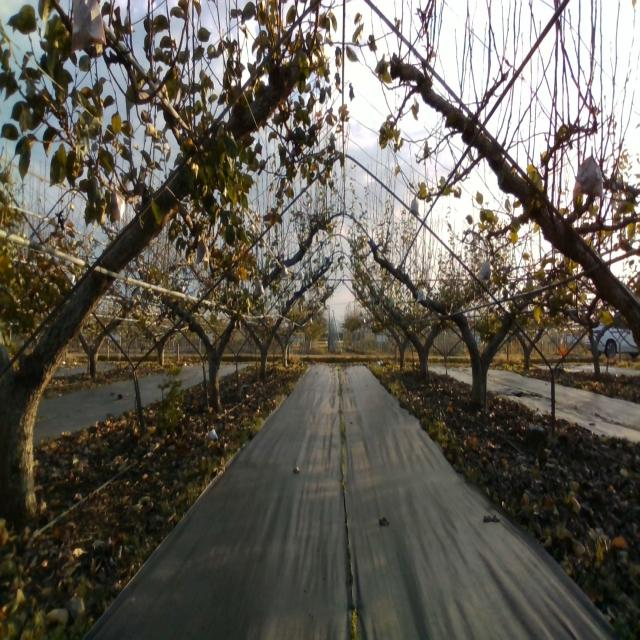pearbags: (71, 0, 107, 54), (574, 147, 603, 199), (111, 187, 127, 221), (479, 258, 492, 281), (408, 196, 420, 217)
